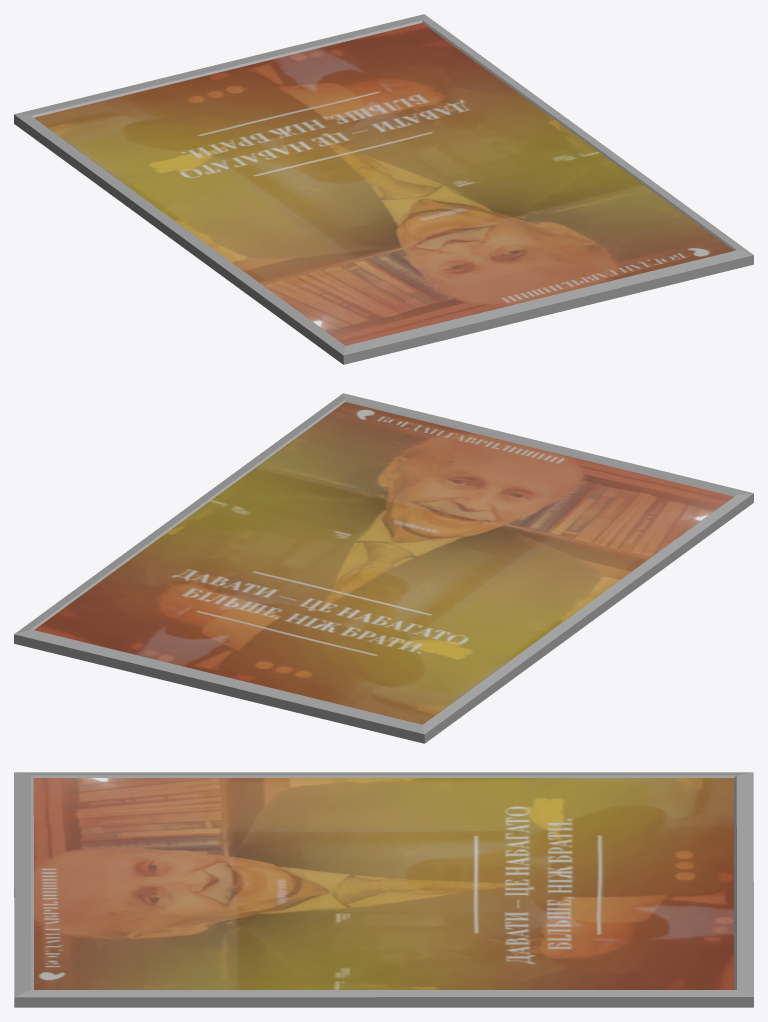
File: p10_bohdan_hawrylyshyn.dae
3 renders of one model, top to bottom at view 1: azimuth 30°, elevation 25°; view 2: azimuth 150°, elevation 25°; view 3: azimuth 270°, elevation 25°, orthographic. The views are drawn at different scales.
Parts seen in each view (by area): view 1: Circle_001, Circle; view 2: Circle_001, Circle; view 3: Circle_001, Circle.
Boxes of the visible parts, <box> form: Circle_001: <box>34,23,733,345</box>; Circle: <box>14,14,753,364</box>; Circle_001: <box>34,402,733,724</box>; Circle: <box>14,393,753,743</box>; Circle_001: <box>33,778,734,989</box>; Circle: <box>14,772,753,1007</box>.
Size of the model in its own units: 44.02 by 61.19 by 1.14.
2 materials, 1 textured.
